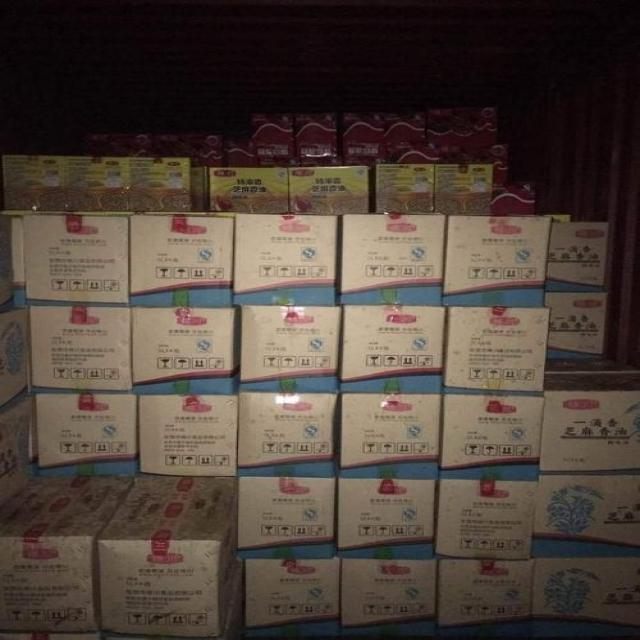box: (97, 477, 238, 639), (0, 477, 136, 631), (539, 358, 640, 473), (442, 216, 548, 308), (233, 215, 337, 307), (24, 216, 129, 307), (340, 305, 447, 394), (342, 214, 444, 307), (129, 216, 232, 308), (129, 307, 236, 394), (444, 307, 550, 394), (531, 474, 639, 559), (28, 305, 131, 393), (439, 393, 543, 480), (340, 393, 443, 479), (535, 557, 640, 640), (239, 305, 340, 391), (238, 392, 339, 477), (434, 480, 538, 560), (37, 394, 138, 476), (238, 476, 335, 559), (340, 559, 439, 640), (141, 394, 238, 476), (337, 479, 435, 560), (436, 559, 532, 640), (247, 558, 339, 639), (547, 222, 611, 292), (544, 293, 607, 361), (289, 166, 369, 214), (209, 168, 288, 213), (64, 157, 131, 210), (128, 157, 191, 212), (3, 155, 65, 210), (435, 164, 493, 216), (376, 164, 434, 215), (0, 308, 29, 409), (294, 112, 342, 166), (340, 112, 385, 165), (383, 110, 428, 163), (251, 114, 294, 167), (428, 109, 468, 163), (466, 108, 495, 165), (10, 216, 26, 308), (492, 184, 535, 217), (493, 144, 508, 190), (192, 166, 207, 211)
